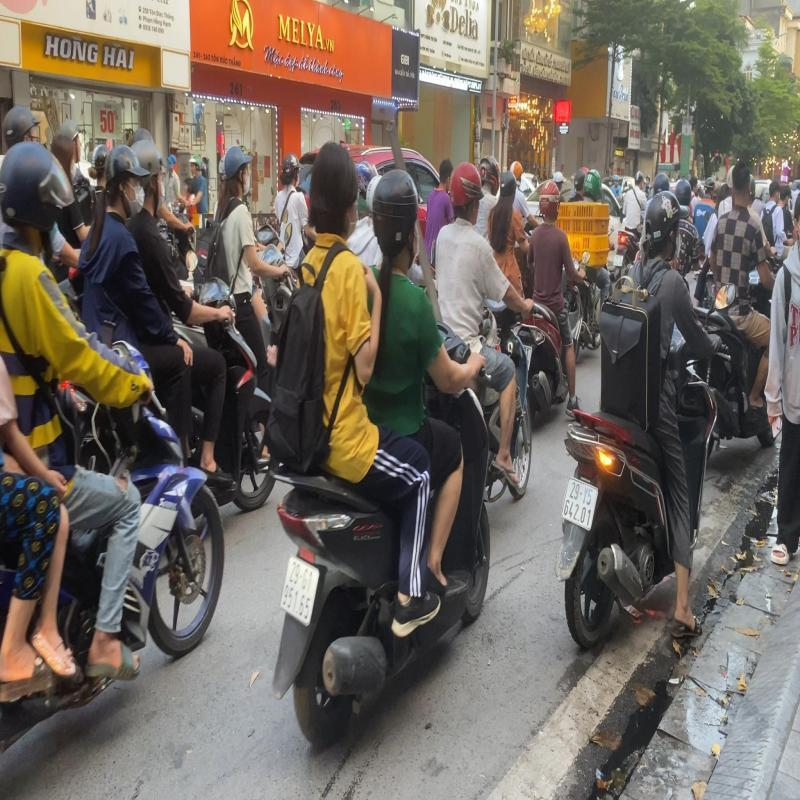helmet: (371, 171, 420, 262)
licenseplate: (280, 558, 320, 626)
motorcyclist: (266, 135, 496, 750)
nohelmet: (307, 139, 358, 233)
